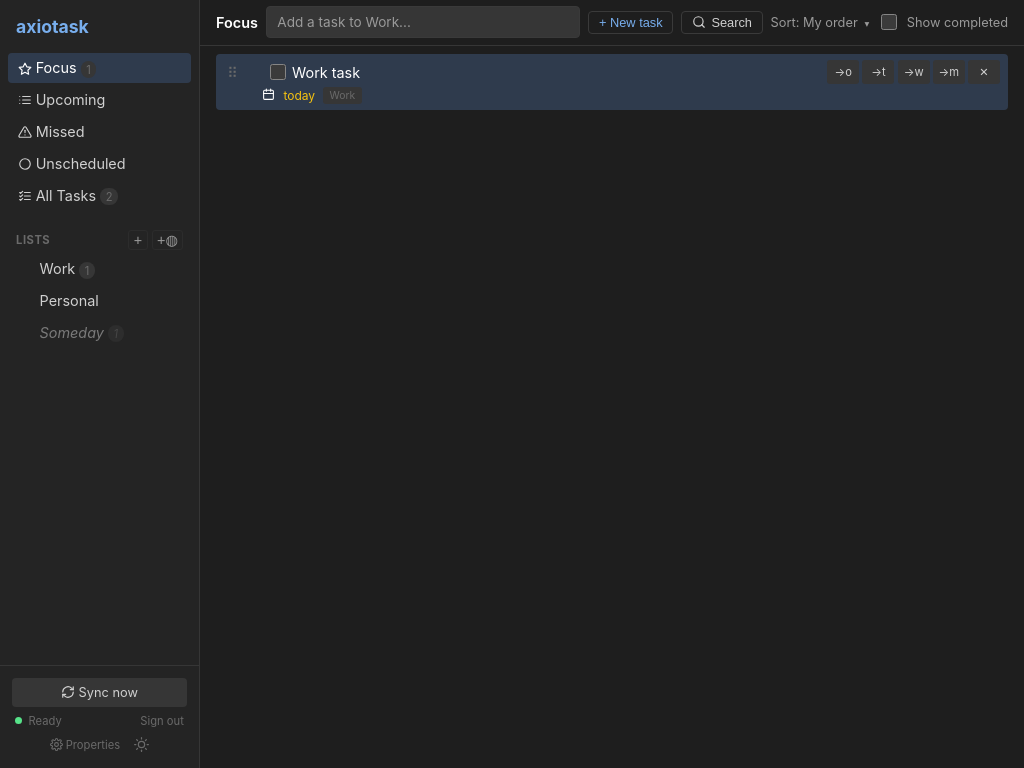
Test: GH#15: List Exclusion from Smart Views › Right-click toggle › including a list restores its tasks in smart views
Check: the text "Work task" is shown, box [292,64,360,81]
Check: the text "Someday task" is not shown
// Right-click Someday list → Include
Right-click the button "Someday 1" at [110, 332], box [30,318,191,347]
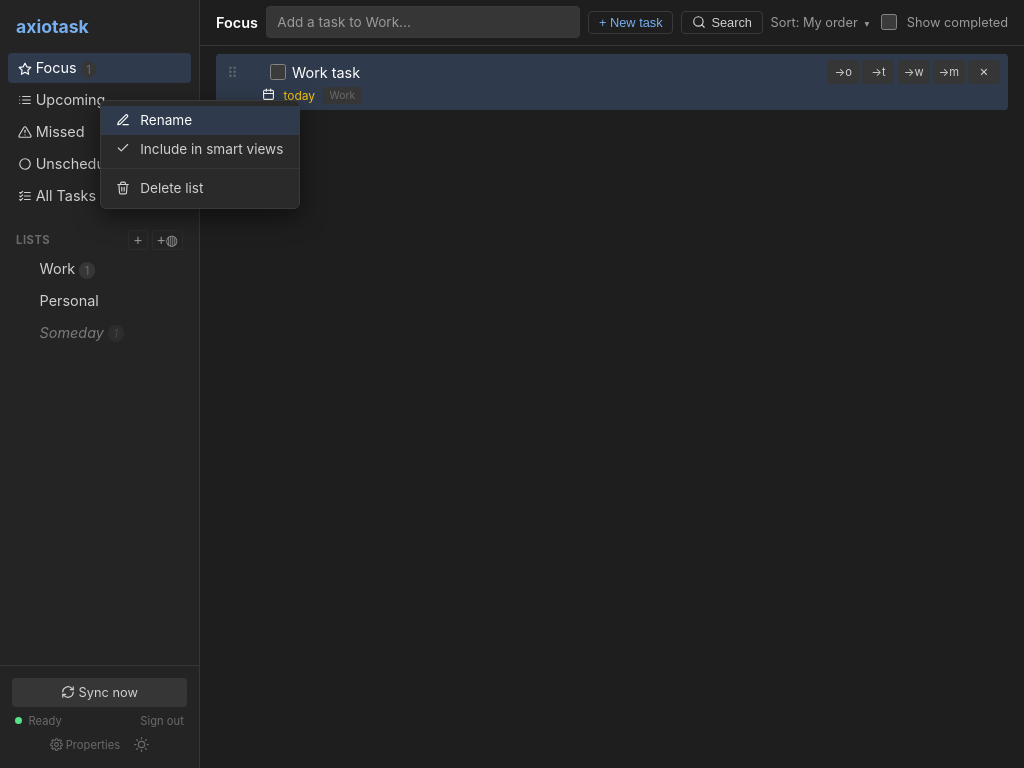
Check: the text "Include in smart views" is shown
Click the text "Include in smart views" at [214, 149], box [140,141,287,157]
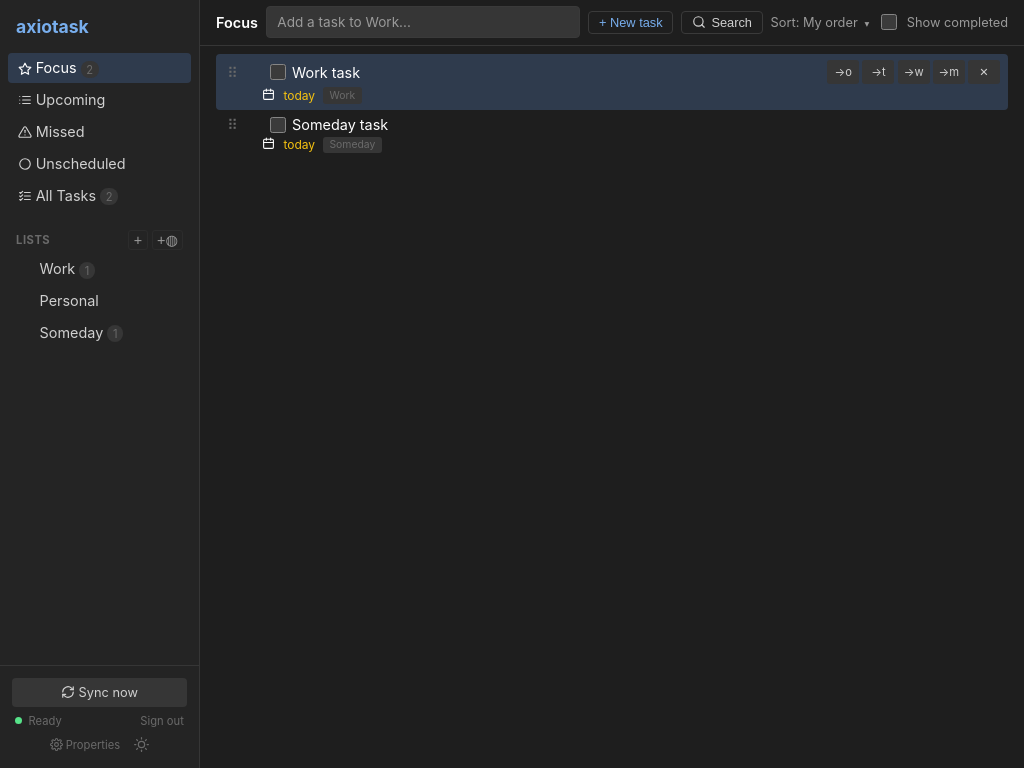
Check: the text "Someday task" is shown, box [292,116,388,133]
